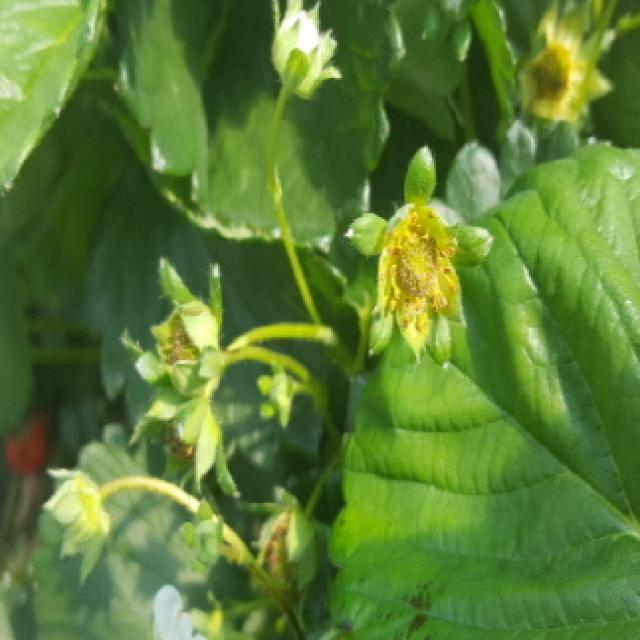Blossom Blight: (374, 201, 463, 347)
